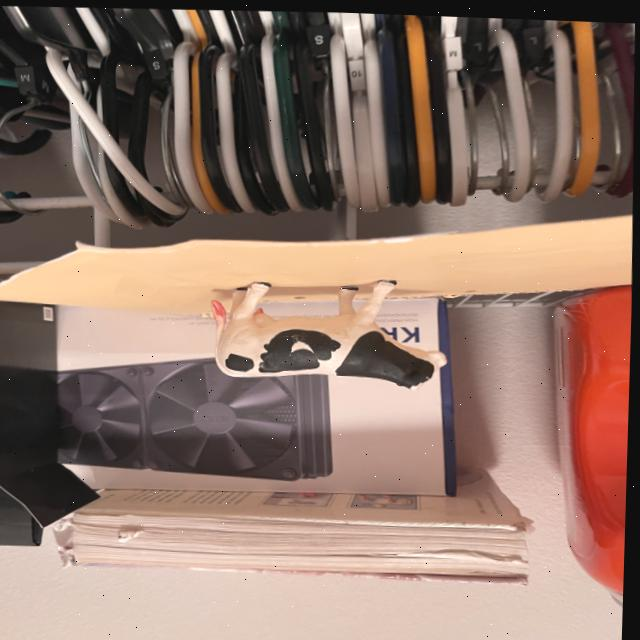cow: (210, 270, 451, 385)
